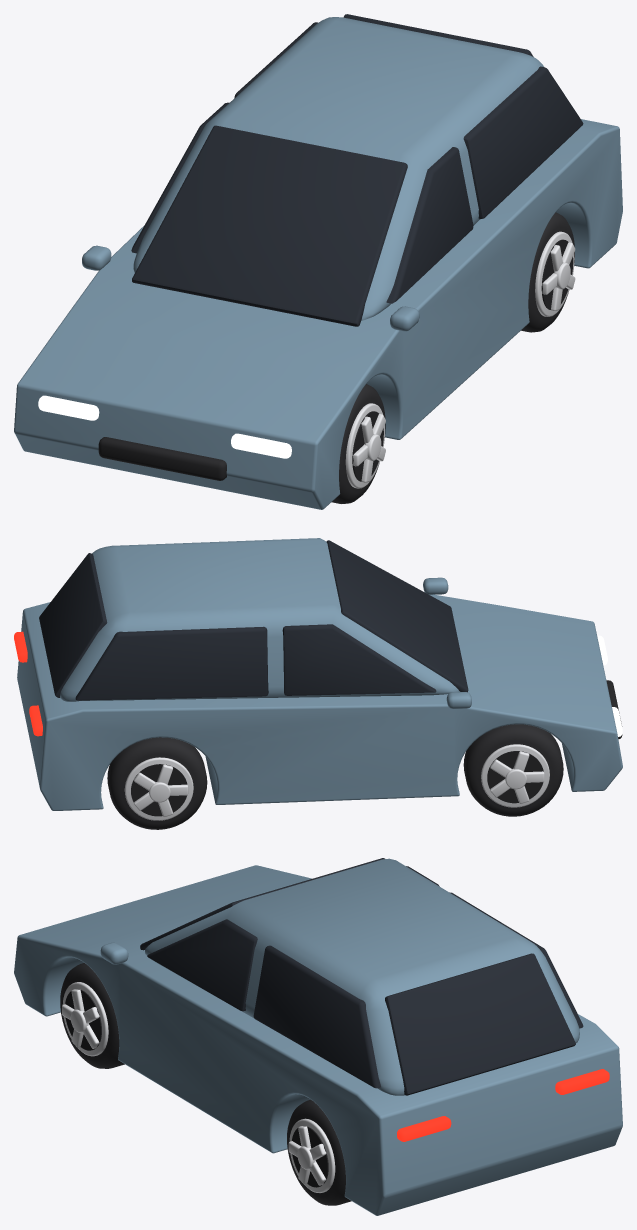
The model's file is reward-hatchback.glb.
3 views of the same model, one above another, from view 1: azimuth 30°, elevation 25°; view 2: azimuth 150°, elevation 25°; view 3: azimuth 270°, elevation 25° (orthographic). The views are drawn at different scales.
Visible parts, largest first — view 1: body, screen, cabin, sidewin.001, sidewin, grille, tyre.003, tyre.001, headl, headl.001, rear, rim.002 (+1 smaller); view 2: body, cabin, sidewin.001, screen, sidewin, rear, tyre, tyre.002, rim.003, rim.001, hubdark, hubdark.002; view 3: body, cabin, rear, sidewin.001, sidewin, tyre.001, tyre.003, rim.004, rim.002, taill, taill.001, screen (+2 smaller).
Boxes of the visible parts, x1,y1,x2,y2 form: body: (14, 119, 622, 509); screen: (132, 125, 407, 326); cabin: (133, 17, 543, 320); sidewin.001: (234, 22, 583, 218); sidewin: (131, 102, 473, 303); grille: (98, 437, 226, 480); tyre.003: (521, 212, 574, 332); tyre.001: (332, 384, 385, 503); headl: (38, 395, 99, 420); headl.001: (231, 433, 291, 458); rear: (343, 14, 533, 56); rim.002: (345, 403, 384, 488); body: (17, 594, 622, 810); cabin: (60, 538, 459, 701); sidewin.001: (75, 626, 268, 700); screen: (326, 540, 468, 692); sidewin: (282, 624, 436, 695); rear: (39, 553, 107, 697); tyre: (463, 724, 563, 816); tyre.002: (107, 737, 207, 829); rim.003: (124, 757, 193, 820); rim.001: (481, 744, 549, 807); hubdark: (487, 751, 543, 803); hubdark.002: (131, 764, 187, 816); body: (14, 865, 622, 1215); cabin: (145, 858, 579, 1095); rear: (385, 953, 575, 1095); sidewin.001: (253, 892, 583, 1088); sidewin: (147, 866, 439, 1011); tyre.001: (60, 963, 124, 1068); tyre.003: (287, 1099, 351, 1205); rim.004: (289, 1118, 335, 1192); rim.002: (62, 982, 108, 1056); taill: (555, 1069, 609, 1094); taill.001: (397, 1116, 451, 1141); screen: (140, 858, 384, 950).
Bounding box in the file's own units: 4.49 × 1.58 × 3.93.
